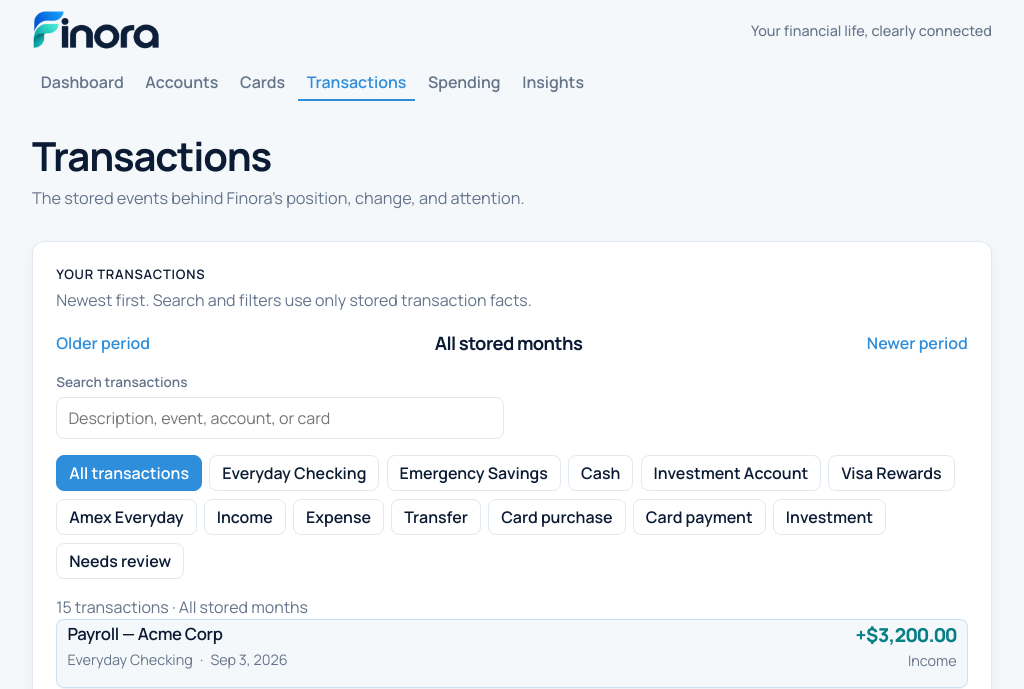
Scenario: Finora transaction detail › explains when the selected transaction is not in the current filter
Click the button with aria-label "Show only Emergency Savings" at (474, 473), box [387,455,561,491]
(page scrolled)
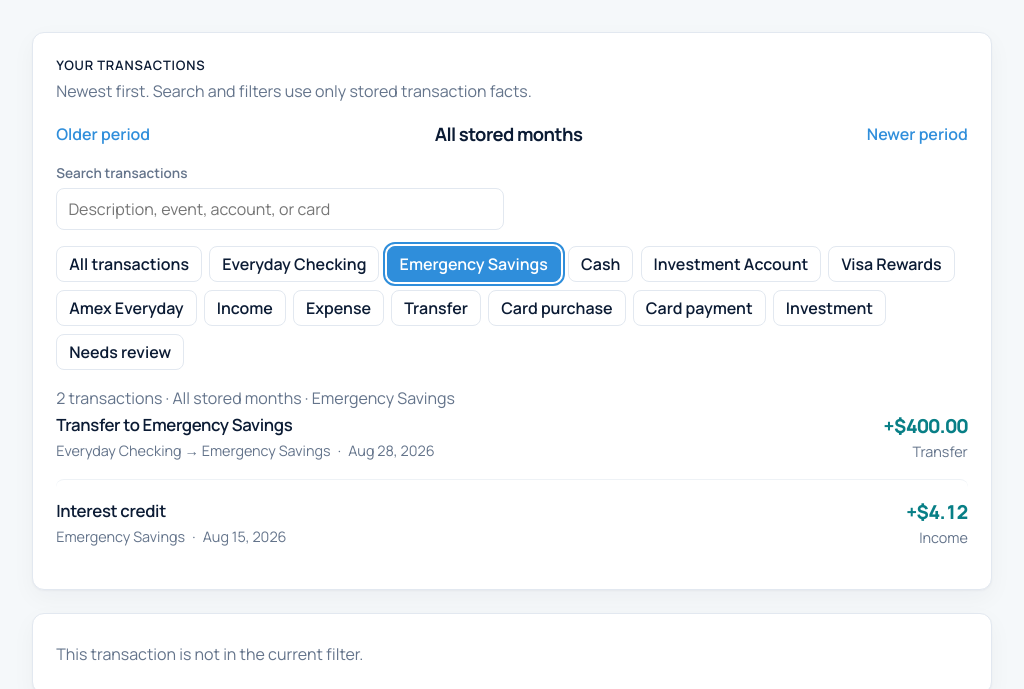
Expected: the text "This transaction is not in the current filter." is shown, [56,643,363,665]
